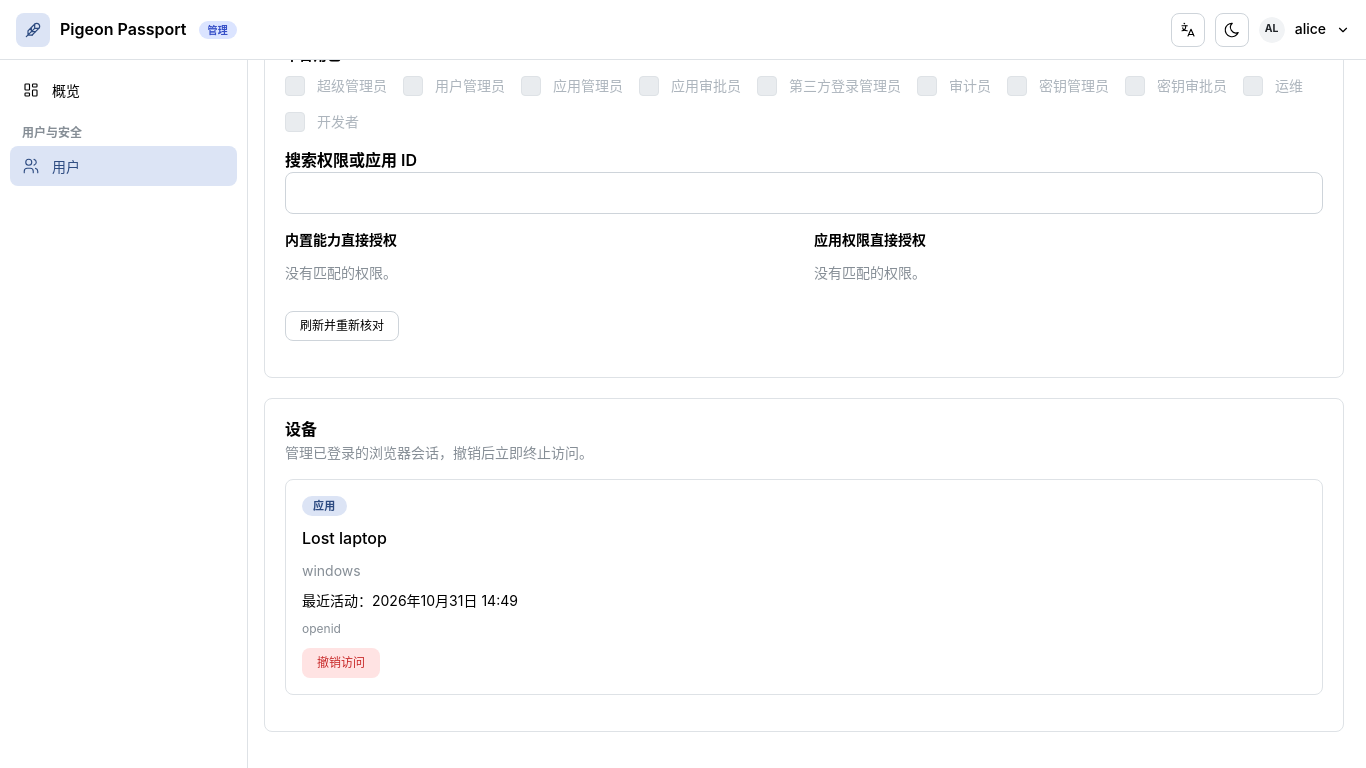
DevicesCard › allows an administrator to revoke a user device without a reason
(page scrolled)
Expected: the text "Lost laptop" is shown, 302,528 -> 387,548
Click the button "撤销访问": (341, 663) 302,648 -> 380,678
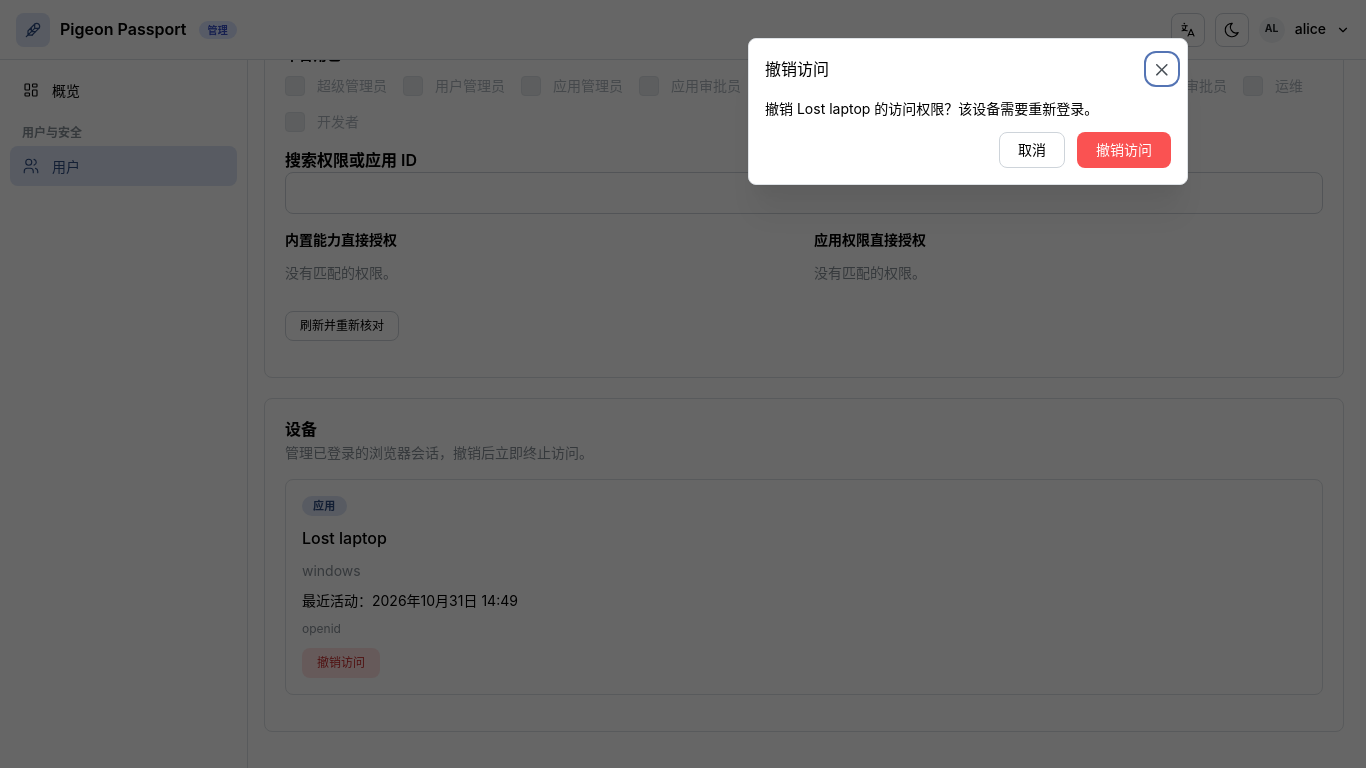
Expected: the button "撤销访问" is enabled
Click the button "撤销访问": (1124, 150) 1077,132 -> 1171,168
(page scrolled)
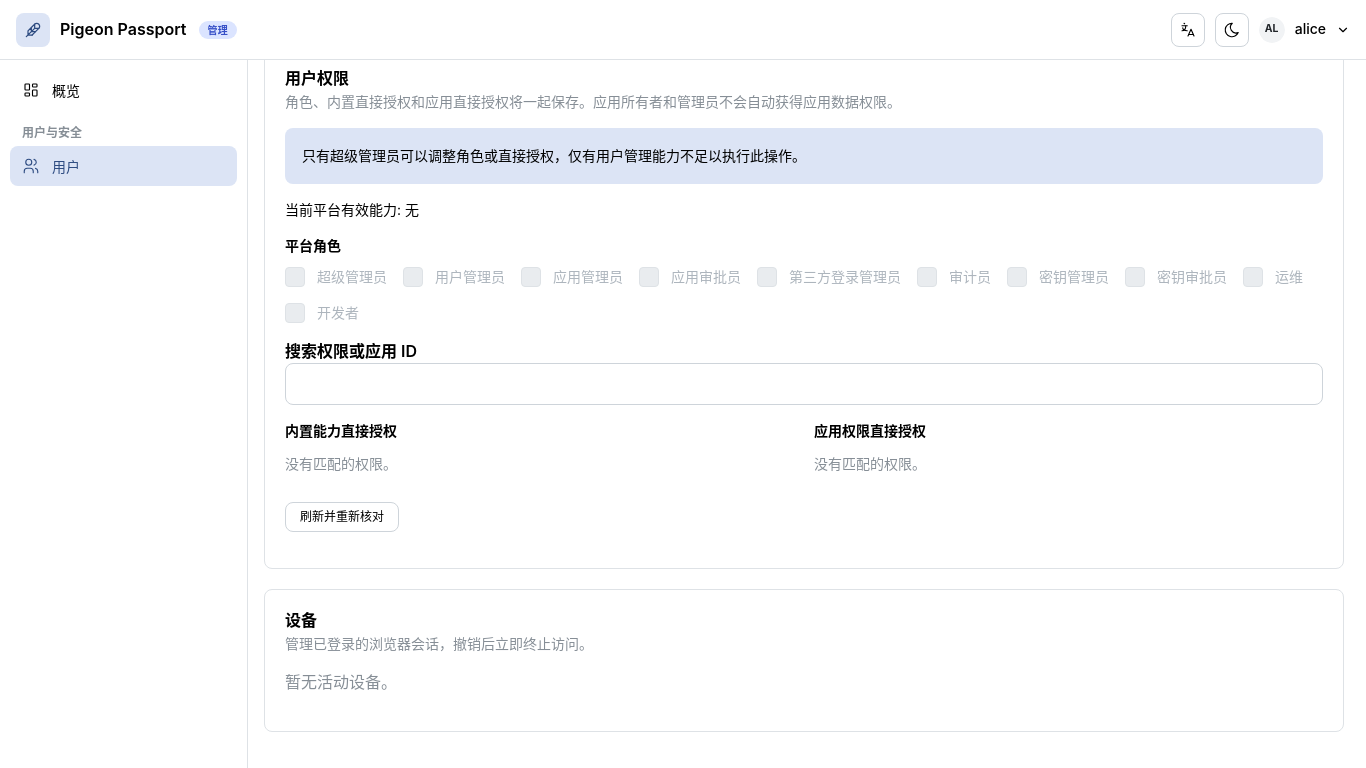
Expected: the text "暂无活动设备。" is shown, 285,672 -> 397,692
